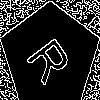R: (25, 30, 80, 86)
